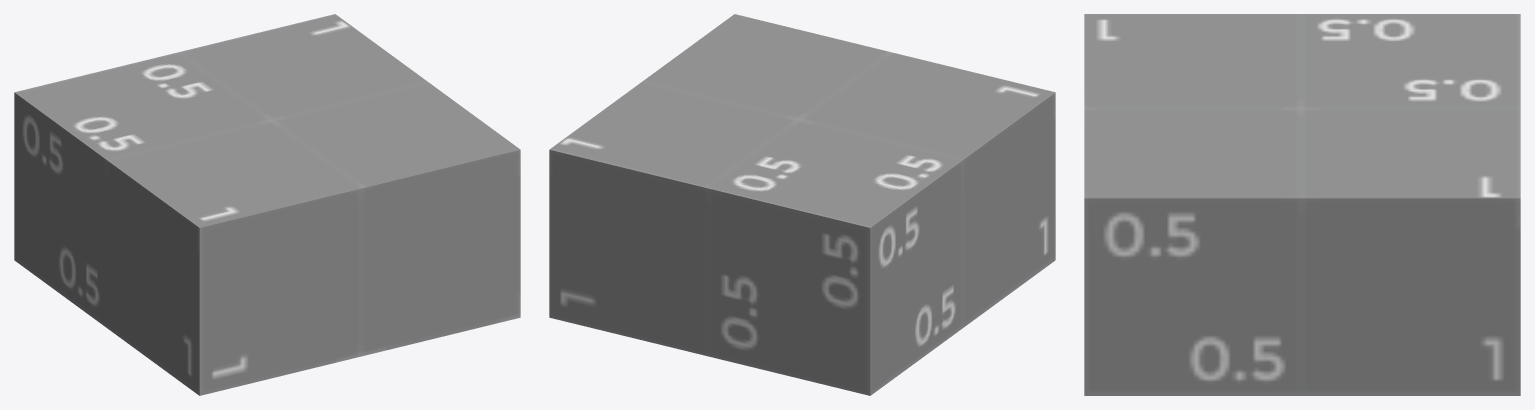
3 renders of one model, left to right at view 1: azimuth 30°, elevation 25°; view 2: azimuth 150°, elevation 25°; view 3: azimuth 270°, elevation 25°, orthographic. The views are drawn at different scales.
Parts seen in each view (by area): view 1: Cube_1_5; view 2: Cube_1_5; view 3: Cube_1_5.
Part boxes in pixels (bbox=[...]): Cube_1_5: bbox=[14, 14, 520, 395]; Cube_1_5: bbox=[549, 14, 1055, 395]; Cube_1_5: bbox=[1084, 14, 1520, 395].
Bounding box in the file's own units: 1 × 0.5 × 1.
